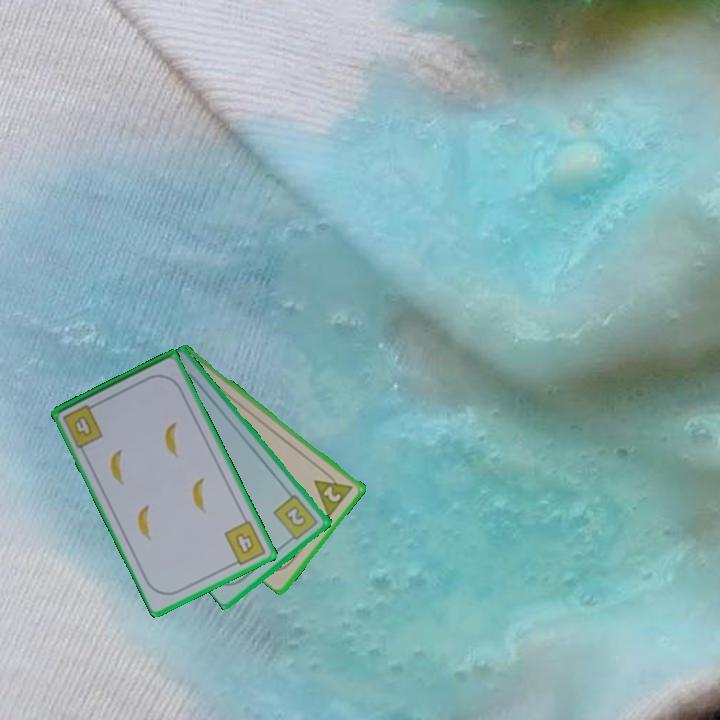2b: (270, 491, 321, 545)
2p: (310, 466, 357, 519)
4b: (221, 517, 269, 569), (59, 399, 106, 451)
